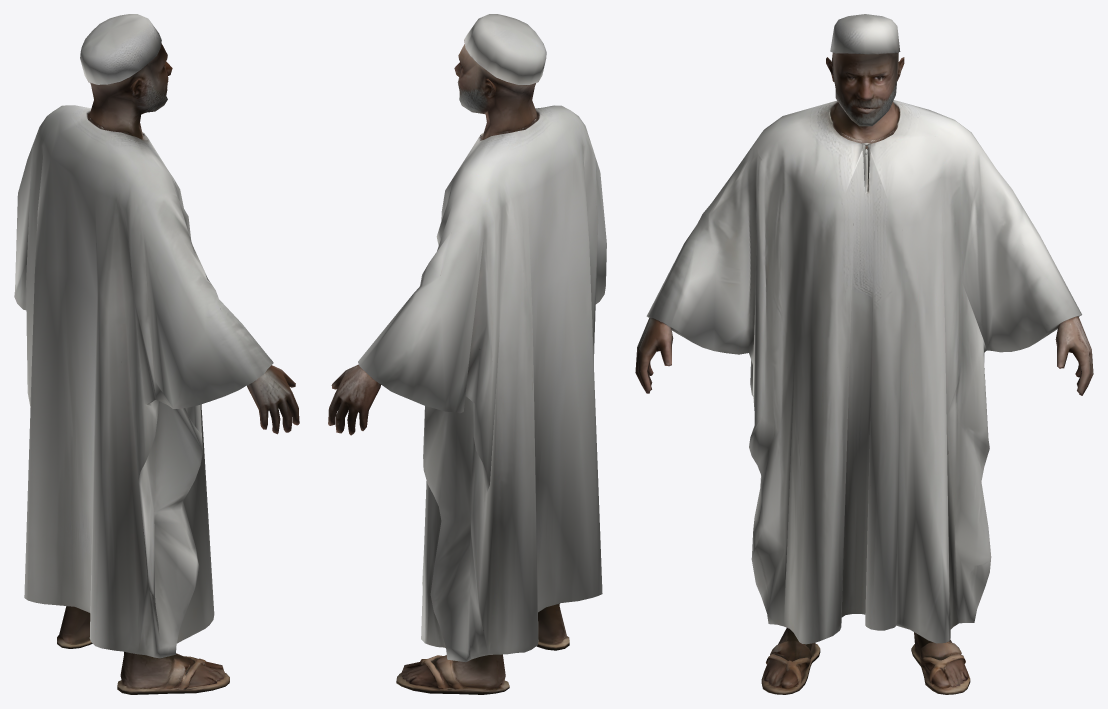
The model's file is homme_boubou.glb.
3 renders of one model, left to right at view 1: azimuth 30°, elevation 25°; view 2: azimuth 150°, elevation 25°; view 3: azimuth 270°, elevation 25°, orthographic.
Parts seen in each view (by area): view 1: tripo_node_198a963b-2cbc-45b3-a282-af602a8c7ef8; view 2: tripo_node_198a963b-2cbc-45b3-a282-af602a8c7ef8; view 3: tripo_node_198a963b-2cbc-45b3-a282-af602a8c7ef8.
Boxes of the visible parts, left/top/right/bottom form: tripo_node_198a963b-2cbc-45b3-a282-af602a8c7ef8: left=14, top=14, right=299, bottom=694; tripo_node_198a963b-2cbc-45b3-a282-af602a8c7ef8: left=328, top=14, right=606, bottom=694; tripo_node_198a963b-2cbc-45b3-a282-af602a8c7ef8: left=635, top=14, right=1093, bottom=694.
Bounding box in the file's own units: 0.2285 × 0.998 × 0.6387.
Materials: 1 (1 with a texture image).
